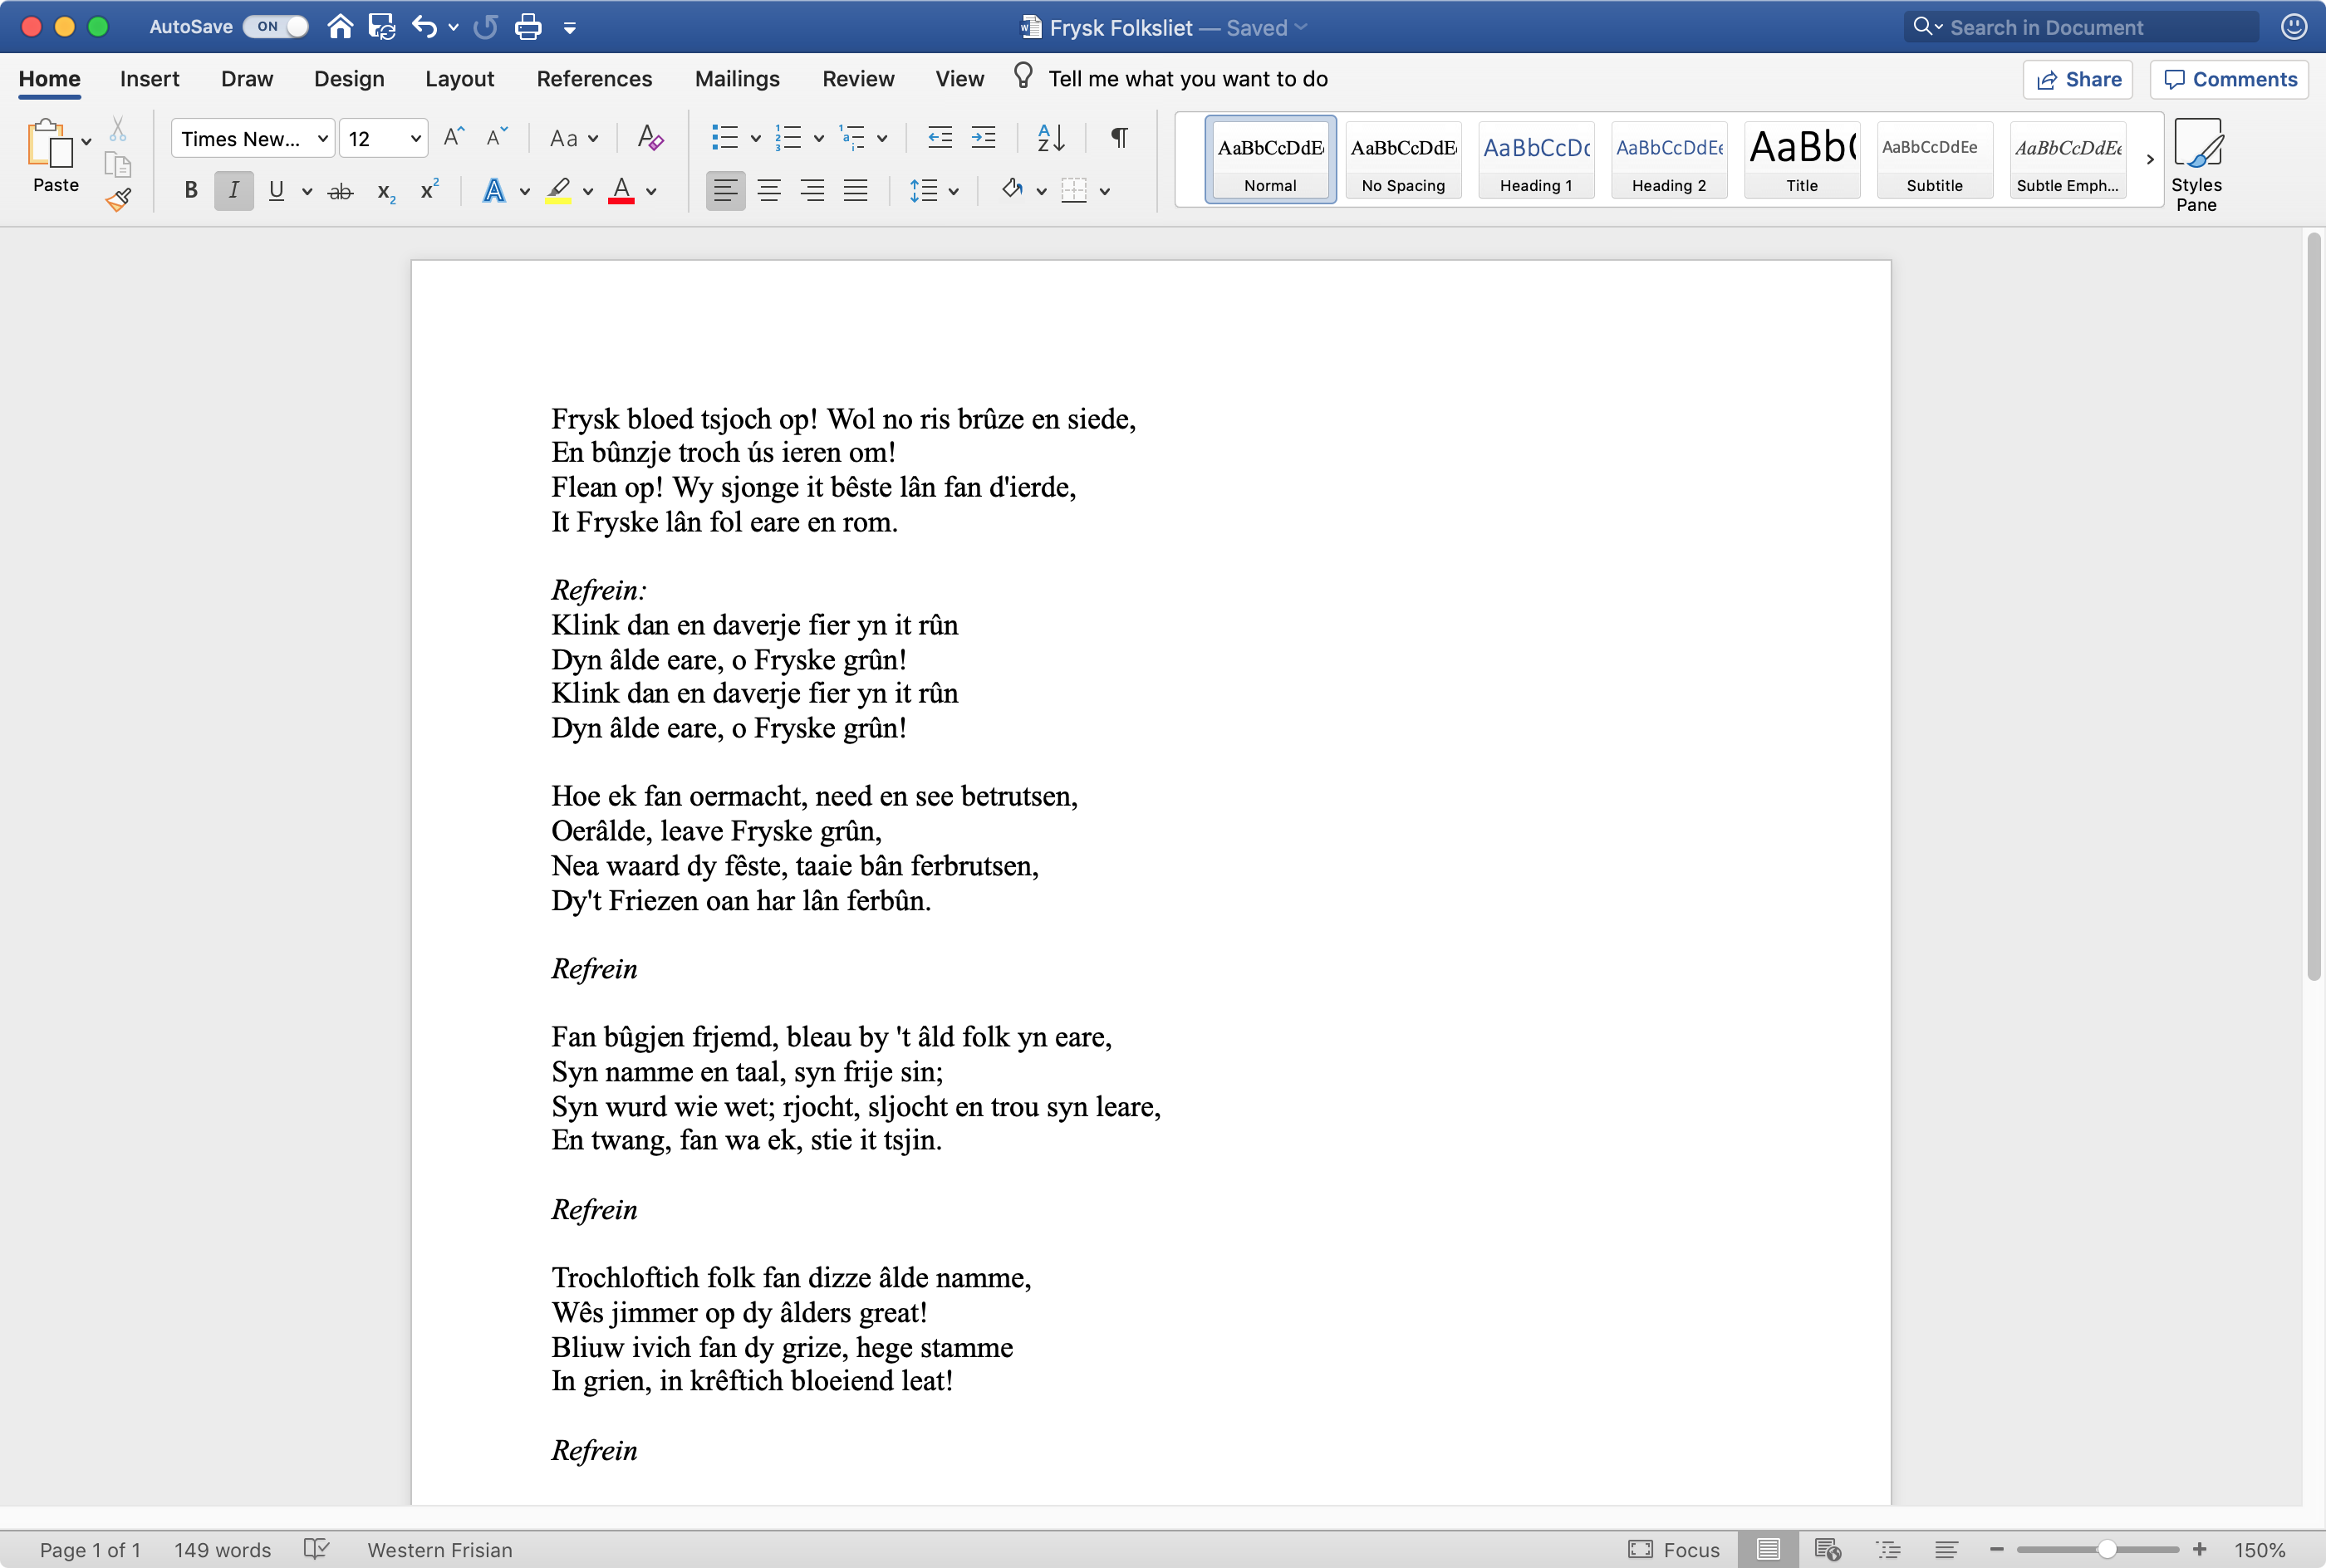button: (2303, 228, 2326, 984), (1204, 114, 1339, 205), (1743, 119, 1864, 201), (1346, 119, 1465, 201), (1608, 119, 1729, 199), (1477, 119, 1596, 199), (1876, 119, 1993, 199), (2009, 121, 2128, 198), (1047, 65, 1330, 93), (2149, 59, 2310, 100), (25, 114, 95, 196), (2172, 116, 2226, 212), (2023, 59, 2133, 100), (536, 66, 656, 93), (14, 66, 86, 102), (693, 65, 782, 93), (1736, 1533, 1799, 1568), (821, 65, 898, 93), (424, 65, 499, 91), (313, 66, 389, 93), (214, 170, 256, 212), (705, 170, 747, 212), (243, 14, 310, 39), (119, 66, 184, 91), (1902, 9, 1946, 42), (219, 68, 275, 93), (935, 65, 985, 91), (707, 119, 744, 154), (837, 121, 872, 154), (774, 121, 807, 154), (324, 10, 357, 42), (410, 10, 443, 42), (1036, 121, 1068, 154), (366, 10, 397, 42), (469, 10, 501, 42), (513, 10, 544, 42), (544, 175, 574, 208), (908, 177, 942, 206), (105, 149, 133, 184), (102, 184, 133, 213), (634, 122, 665, 152), (754, 175, 784, 206), (796, 177, 828, 206), (840, 175, 872, 205), (1059, 175, 1089, 206), (175, 173, 203, 206), (103, 110, 130, 145), (263, 175, 291, 206), (1813, 1536, 1845, 1565), (926, 122, 954, 152), (481, 175, 508, 206), (312, 121, 336, 154), (406, 119, 427, 157), (970, 124, 998, 152), (1932, 1536, 1960, 1565), (607, 179, 637, 205), (324, 180, 355, 205), (441, 122, 467, 150), (999, 175, 1027, 201), (1874, 1536, 1902, 1563), (418, 173, 443, 203), (548, 124, 578, 149), (1013, 58, 1034, 91), (373, 180, 399, 206), (485, 122, 511, 149), (1110, 124, 1132, 152), (86, 16, 110, 39), (54, 16, 77, 39), (2097, 1536, 2118, 1561), (21, 16, 42, 39), (746, 128, 767, 147), (2189, 1538, 2209, 1559), (75, 133, 96, 150), (807, 131, 830, 147), (2142, 149, 2158, 170), (560, 19, 578, 37), (1988, 1540, 2006, 1557), (1096, 184, 1115, 199), (870, 131, 891, 145), (299, 184, 315, 201), (579, 184, 597, 199), (945, 184, 963, 199), (1033, 184, 1050, 199), (1292, 19, 1311, 33), (515, 185, 534, 199), (585, 131, 600, 145), (446, 19, 460, 33), (644, 184, 658, 196)
common: (173, 119, 310, 154), (368, 1540, 515, 1559), (39, 1538, 142, 1563), (175, 1538, 273, 1561), (147, 16, 236, 37), (2231, 1538, 2289, 1561), (1663, 1540, 1722, 1561), (1225, 17, 1288, 37)
container: (0, 229, 2326, 1505), (410, 257, 1894, 1505), (0, 103, 2326, 228), (0, 52, 2326, 105), (0, 0, 2326, 51), (1173, 110, 2165, 208), (0, 1529, 2326, 1568), (0, 1505, 2326, 1529), (2301, 226, 2326, 1507), (1901, 9, 2259, 45), (1624, 1533, 1964, 1568), (1012, 7, 1314, 45), (1985, 1533, 2293, 1568), (173, 119, 338, 157), (1986, 1535, 2210, 1563), (145, 14, 310, 40), (341, 119, 429, 157), (707, 117, 767, 154), (1223, 16, 1313, 39), (835, 121, 891, 156), (544, 173, 599, 208), (774, 121, 830, 154), (480, 175, 534, 206), (606, 175, 660, 206), (1061, 175, 1115, 206), (410, 10, 462, 42), (999, 173, 1050, 203), (548, 124, 600, 150)
header: (1017, 10, 1195, 44)
image: (2280, 12, 2308, 40), (1624, 1536, 1656, 1561), (303, 1535, 329, 1561)
text-input: (537, 395, 1717, 1503), (1946, 9, 2259, 44), (341, 119, 406, 156)
